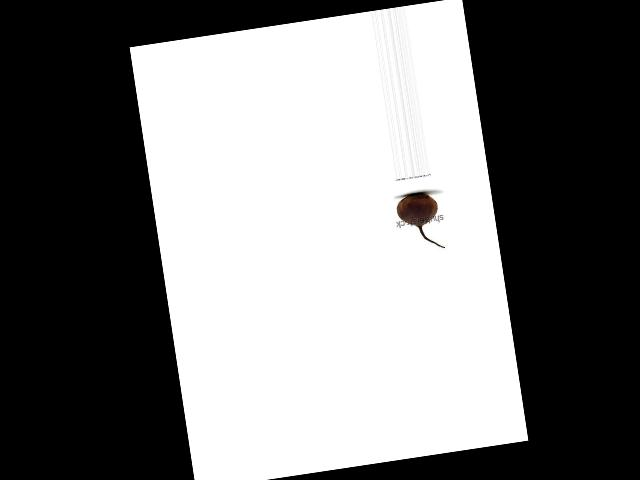beet: (393, 190, 444, 254)
